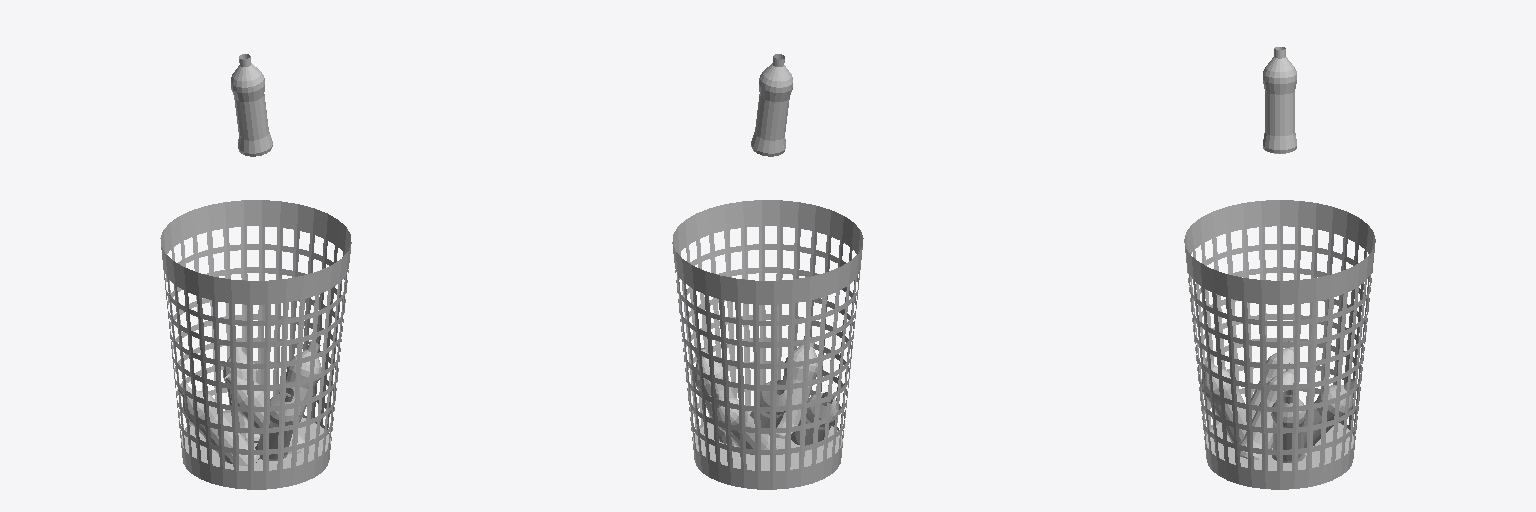
File: DustbinWithCan_000012.obj
3 views of the same model, side by side, from view 1: azimuth 30°, elevation 25°; view 2: azimuth 150°, elevation 25°; view 3: azimuth 270°, elevation 25° (orthographic).
Visible parts, largest first — view 1: Cylinder, Plane.006, Plane.005, Plane.001, Plane.003, Plane.004, Plane.002; view 2: Cylinder, Plane.006, Plane.001, Plane.002, Plane.005, Plane.003, Plane.004; view 3: Cylinder, Plane.006, Plane.001, Plane.003, Plane.004, Plane.002, Plane.005.
Boxes of the visible parts, x1=… form: Cylinder: x1=160, y1=200, x2=351, y2=489; Plane.006: x1=231, y1=54, x2=272, y2=156; Plane.005: x1=177, y1=383, x2=259, y2=465; Plane.001: x1=255, y1=388, x2=300, y2=460; Plane.003: x1=279, y1=341, x2=320, y2=422; Plane.004: x1=225, y1=373, x2=304, y2=453; Plane.002: x1=223, y1=347, x2=259, y2=442; Cylinder: x1=672, y1=200, x2=863, y2=489; Plane.006: x1=751, y1=54, x2=792, y2=156; Plane.001: x1=776, y1=336, x2=817, y2=438; Plane.002: x1=710, y1=393, x2=777, y2=454; Plane.005: x1=791, y1=392, x2=838, y2=445; Plane.003: x1=694, y1=348, x2=735, y2=445; Plane.004: x1=750, y1=380, x2=786, y2=434; Cylinder: x1=1184, y1=200, x2=1375, y2=489; Plane.006: x1=1263, y1=47, x2=1296, y2=153; Plane.001: x1=1201, y1=358, x2=1252, y2=443; Plane.003: x1=1271, y1=390, x2=1305, y2=462; Plane.004: x1=1239, y1=363, x2=1293, y2=459; Plane.002: x1=1304, y1=379, x2=1354, y2=447; Plane.005: x1=1251, y1=340, x2=1293, y2=416.
Bounding box in the file's own units: 2.6 × 6.08 × 2.6.